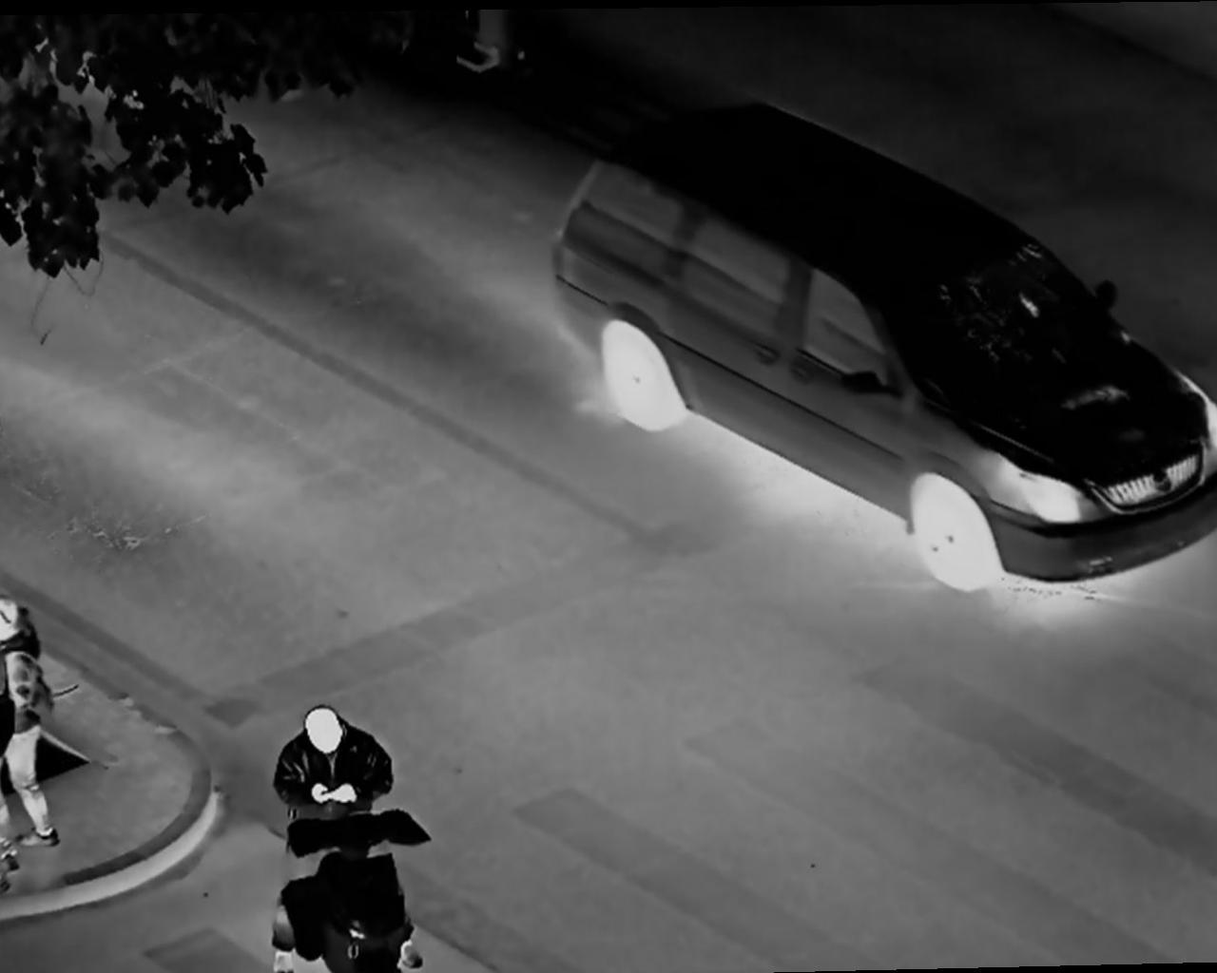person: (266, 702, 402, 943), (4, 593, 64, 848)
